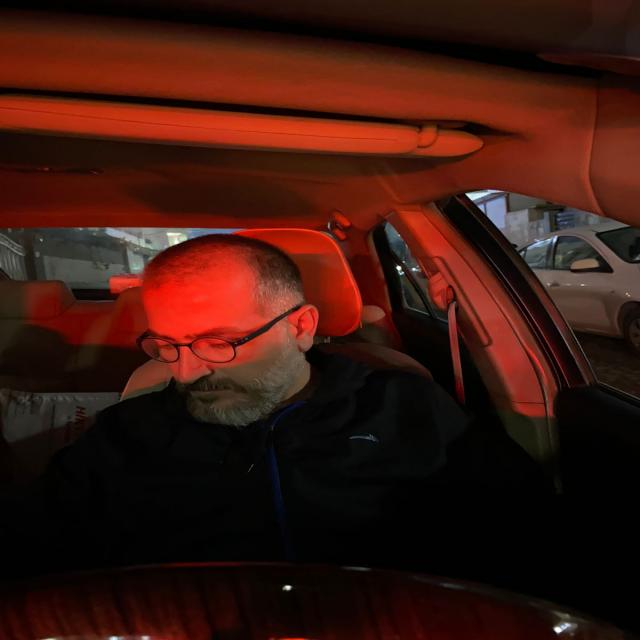drowsy: (130, 234, 332, 436)
